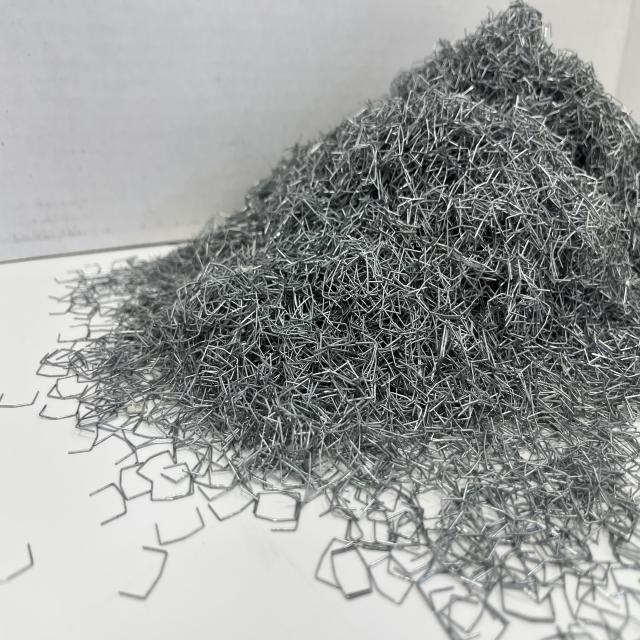staples: (35, 3, 638, 636)
